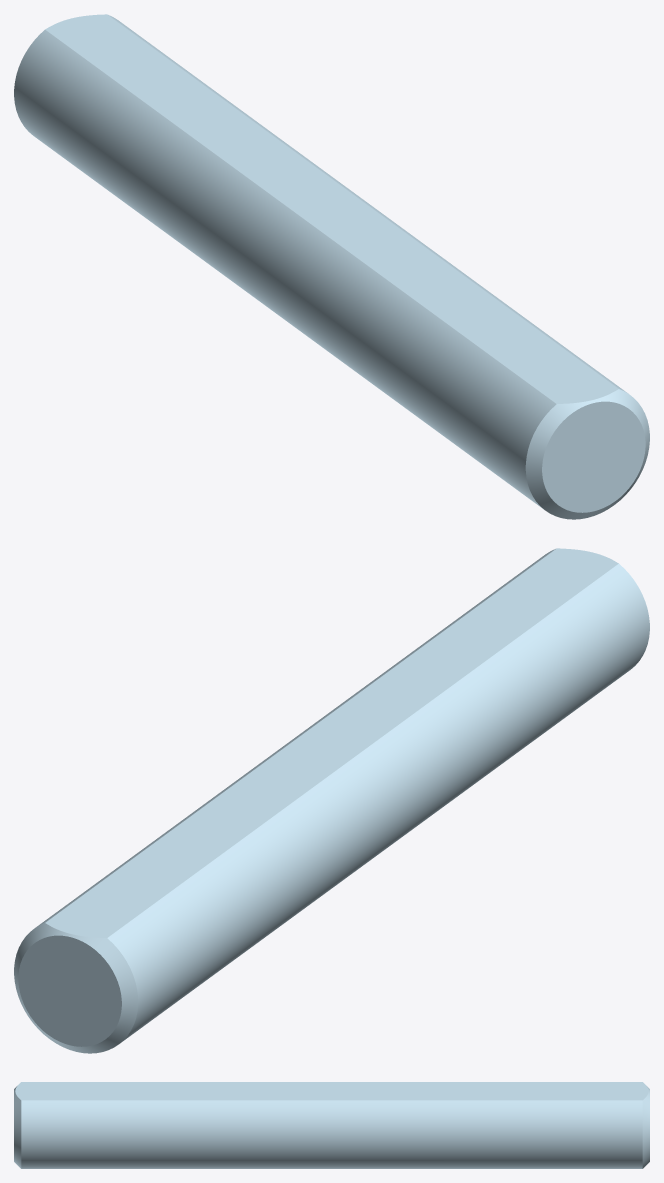
The model's file is Robot_Master Copy 1 - Part 1 (41).gltf.
The picture shows the model from 3 angles, top to bottom: view 1: azimuth 30°, elevation 25°; view 2: azimuth 150°, elevation 25°; view 3: azimuth 270°, elevation 25°; orthographic projection. The views are drawn at different scales.
Parts seen in each view (by area): view 1: Part 1; view 2: Part 1; view 3: Part 1.
Boxes of the visible parts, left/top/right/bottom form: Part 1: left=14, top=14, right=649, bottom=519; Part 1: left=14, top=548, right=649, bottom=1053; Part 1: left=14, top=1082, right=649, bottom=1168.
Bounding box in the file's own units: 0.012 × 0.0112 × 0.0876.
